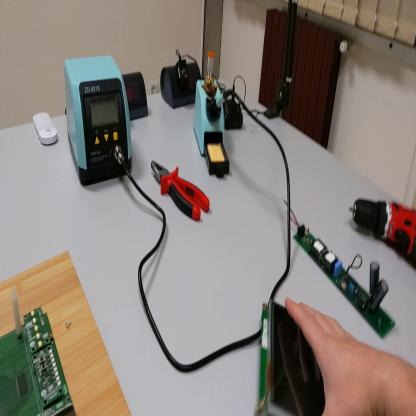electric screwdriver: (348, 188, 415, 268)
electric screwdriver battery: (224, 96, 244, 129)
hand: (283, 299, 391, 416)
high voltage board: (282, 197, 397, 339)
low voltage board: (2, 291, 78, 415)
pliers: (152, 162, 211, 221)
socket: (161, 62, 204, 110), (123, 74, 149, 122)
welder base: (195, 76, 230, 179)
welder probe tip: (209, 89, 231, 119)
welder station: (65, 55, 135, 190)
working area: (4, 254, 132, 416)
